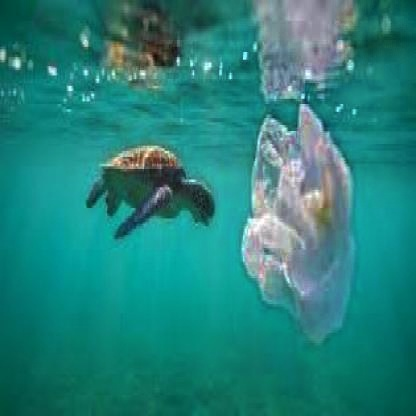pbag: (239, 101, 358, 348)
